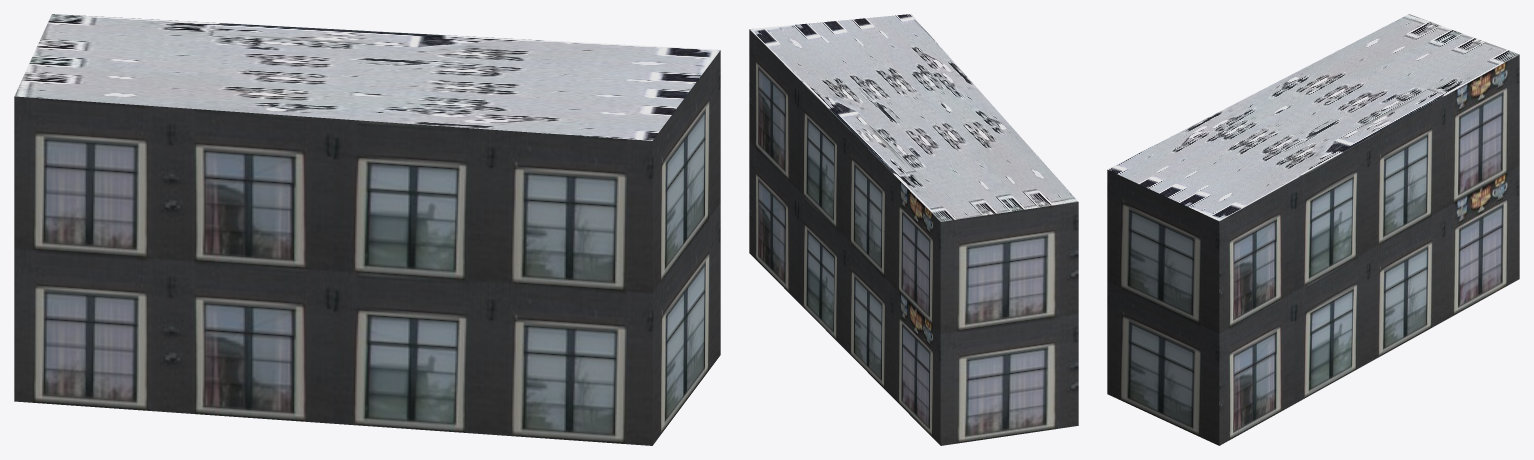
The model's file is ResTex__977.fbx.
The picture shows the model from 3 angles, left to right: view 1: azimuth 30°, elevation 25°; view 2: azimuth 150°, elevation 25°; view 3: azimuth 270°, elevation 25°; orthographic projection. The views are drawn at different scales.
Visible parts, largest first — view 1: CityEngineMaterial_22_m, CityEngineMaterial_2_m; view 2: CityEngineMaterial_22_m, CityEngineMaterial_2_m; view 3: CityEngineMaterial_22_m, CityEngineMaterial_2_m.
Part boxes in pixels (bbox=[...]): CityEngineMaterial_22_m: bbox=[14, 50, 720, 445]; CityEngineMaterial_2_m: bbox=[14, 14, 720, 140]; CityEngineMaterial_22_m: bbox=[749, 29, 1078, 445]; CityEngineMaterial_2_m: bbox=[749, 14, 1078, 221]; CityEngineMaterial_22_m: bbox=[1107, 54, 1519, 445]; CityEngineMaterial_2_m: bbox=[1107, 14, 1519, 221].
Size of the model in its own units: 11.88 by 6 by 9.99.
2 materials, 2 textured.
